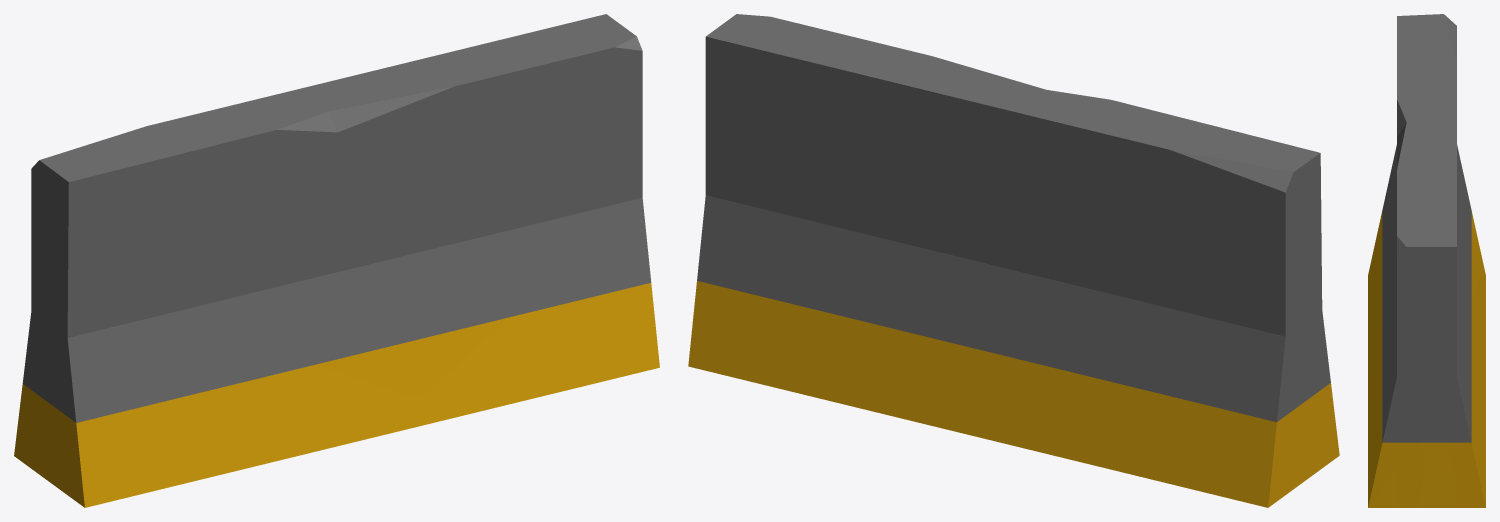
File: SM_Floor_RoadPart_02.fbx
3 renders of one model, left to right at view 1: azimuth 30°, elevation 25°; view 2: azimuth 150°, elevation 25°; view 3: azimuth 270°, elevation 25°, orthographic. The views are drawn at different scales.
Parts seen in each view (by area): view 1: SM_Floor_RoadPart_02; view 2: SM_Floor_RoadPart_02; view 3: SM_Floor_RoadPart_02.
Part boxes in pixels (<box>): SM_Floor_RoadPart_02: <box>14,14,659,507</box>; SM_Floor_RoadPart_02: <box>688,14,1339,507</box>; SM_Floor_RoadPart_02: <box>1368,14,1485,507</box>.
Bounding box in the file's own units: 2 × 1.05 × 0.4273.
